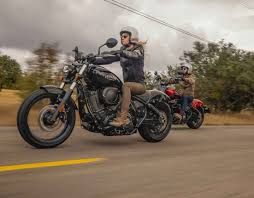motorcycle: (16, 37, 174, 148), (151, 77, 209, 128)
